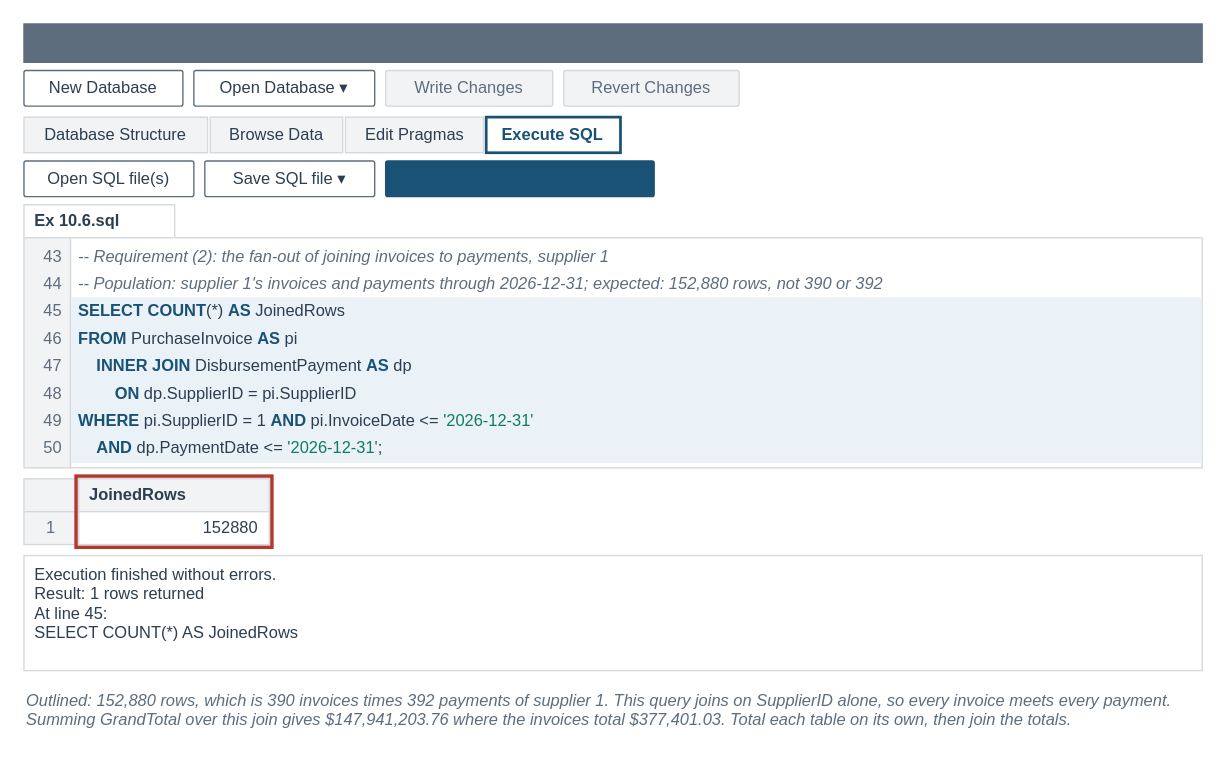
Some shapes in this 1226 by 766 pixel diagram are drawn without their labels. The shapes that lost their labels are listed below. From the top down, each one's box as (x1, y1, x2, y2) in pixels, then its label:
(23, 23, 1202, 62): DB Browser for SQLite - C:\Users\you\Documents\CharlesRiver_Work.sqlite
(384, 160, 654, 197): ▶ Execute all/selected SQL
